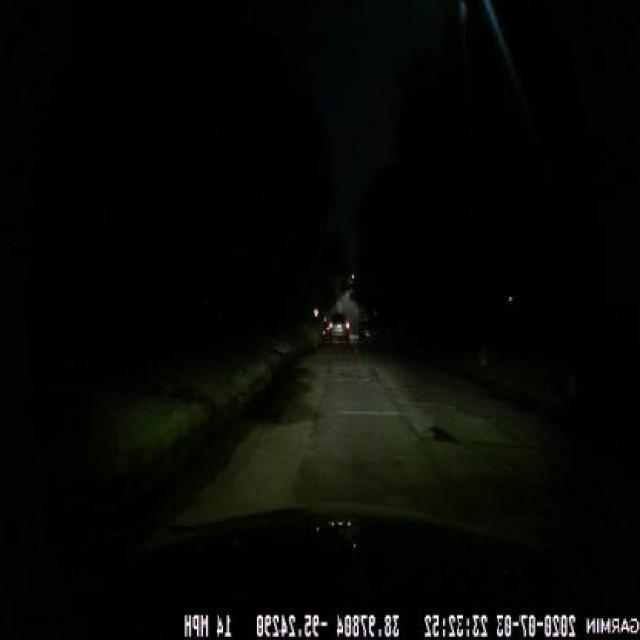pothole: (423, 418, 462, 455)
